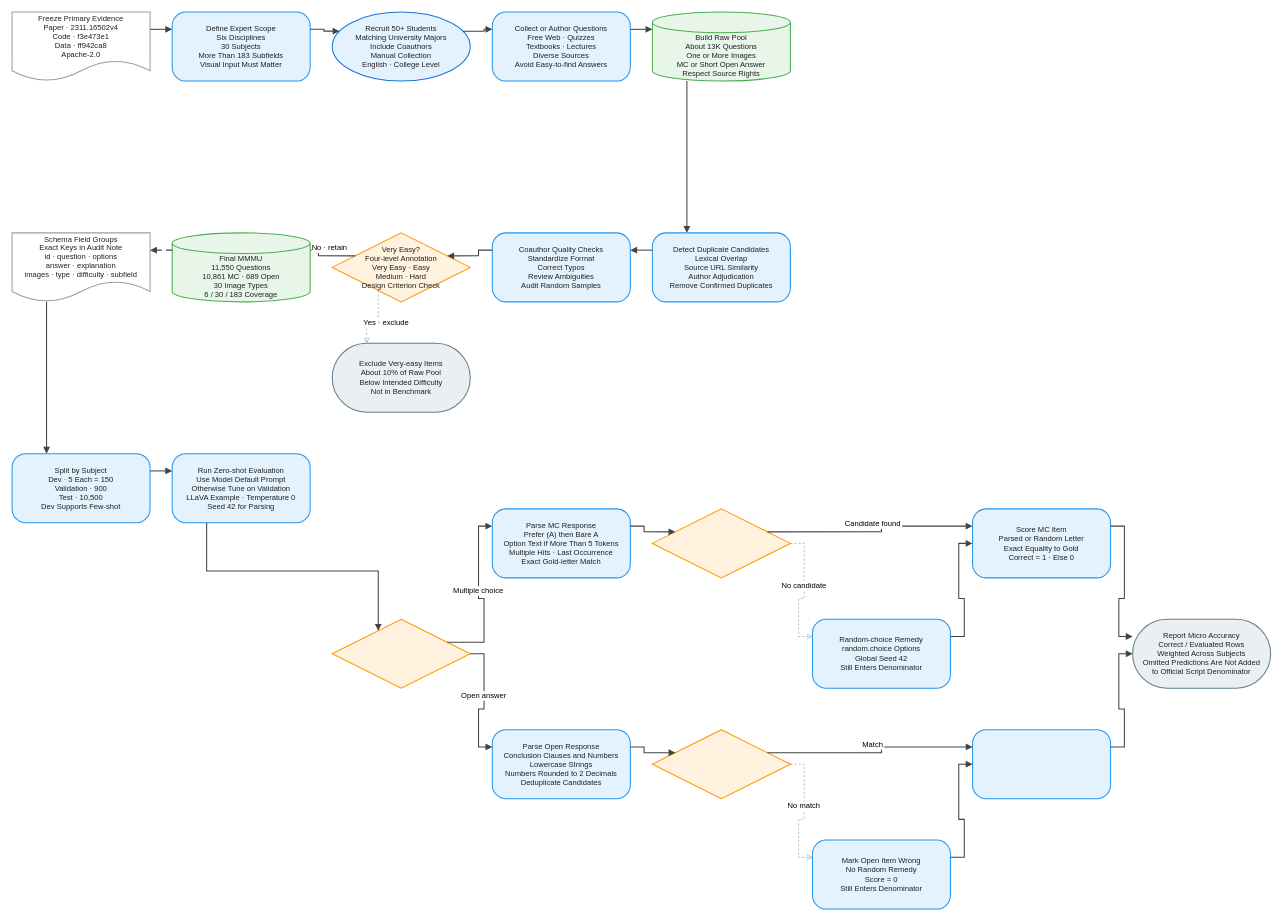
Some shapes in this 1283 by 922 pixel diagram are drawn without their labels. Each missing label, with the centre of its shape:
Gold Match Found? String Substring or Numeric Equality: (x=721, y=764)
MC Candidate Found? Parser Search Exhausted: (x=721, y=543)
Question Type? Multiple Choice or Open Answer: (x=400, y=653)
Score Open Item Any Normalized Gold Match Correct = 1 Otherwise 0: (x=1041, y=764)
